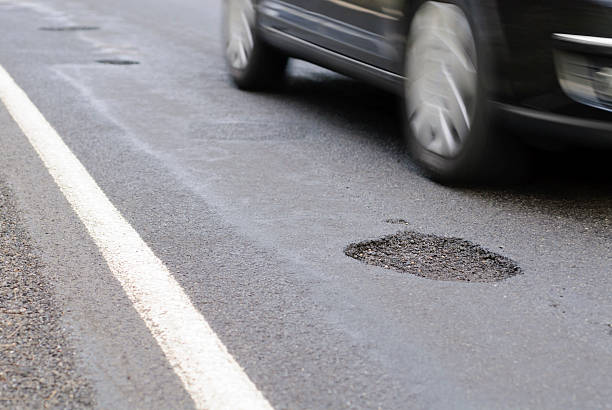potholes: (332, 210, 530, 298)
